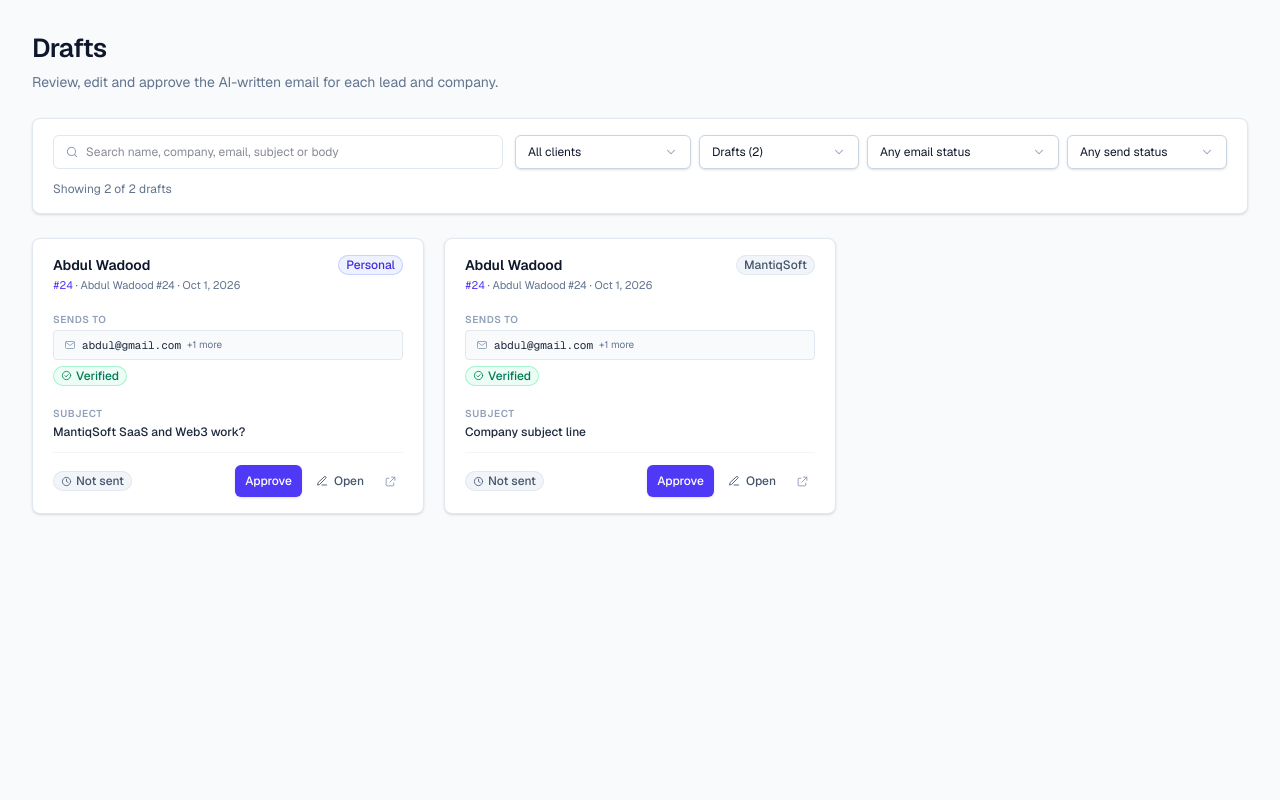
DraftsPage › opens the editor for a card
Check: the text "Showing 2 of 2 drafts" is shown, box [53,181,172,197]
Click the button "Open" below "MantiqSoft SaaS and Web3 work?" at [340, 481], box [306,465,374,497]
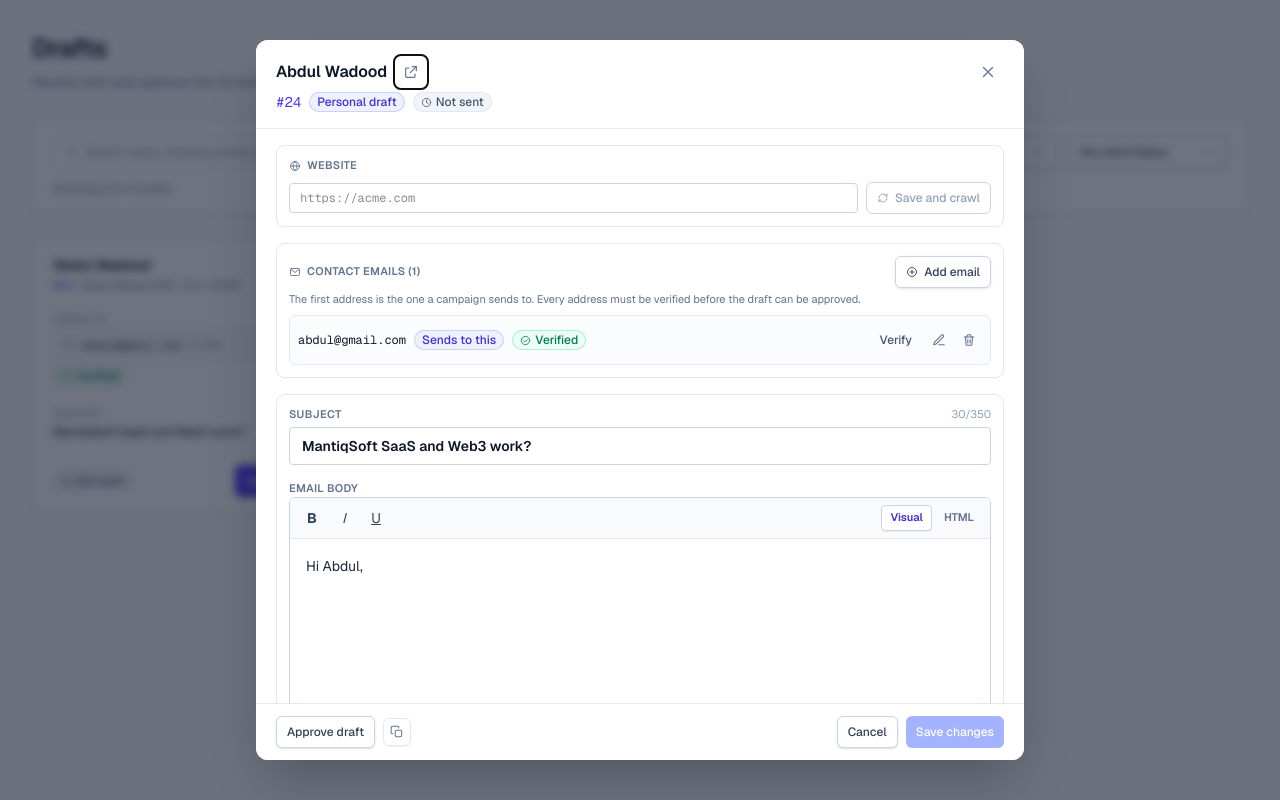
Check: the heading "Abdul Wadood" is shown, box [276,60,387,84]
